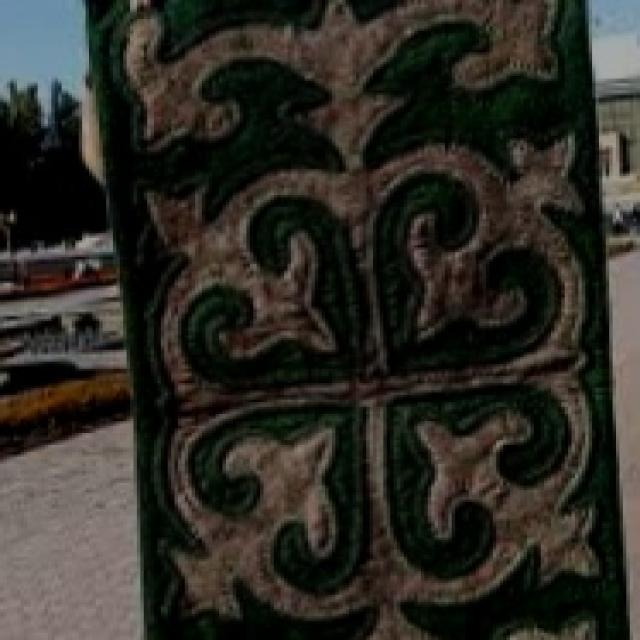Unity: (103, 114, 609, 638)
